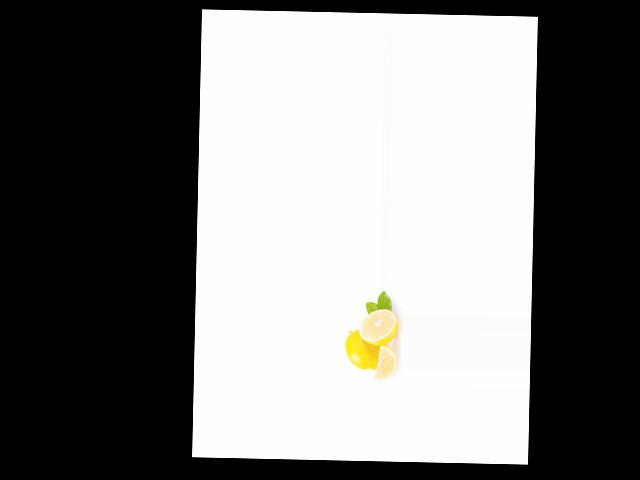lemon: (343, 326, 385, 372)
